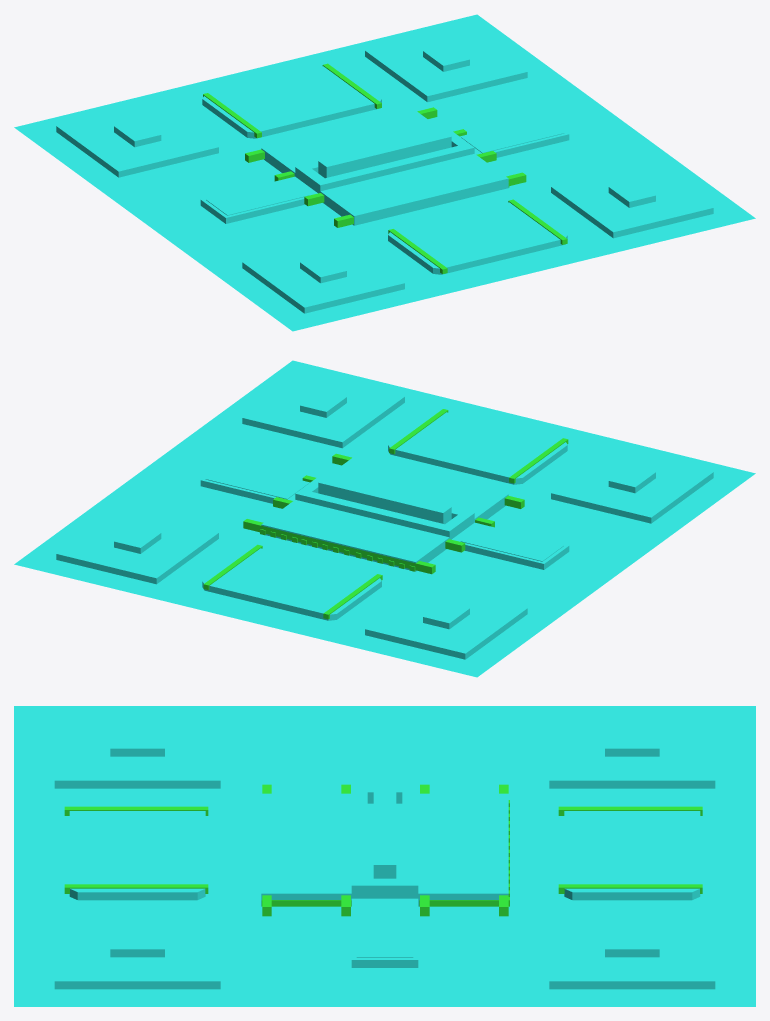
File: Techazo.fbx
3 renders of one model, top to bottom at view 1: azimuth 30°, elevation 25°; view 2: azimuth 150°, elevation 25°; view 3: azimuth 270°, elevation 25°, orthographic. The views are drawn at different scales.
Visible parts, largest first — view 1: techo, ranuras; view 2: techo, ranuras; view 3: techo, ranuras.
Part boxes in pixels (bbox=[...]): techo: bbox=[14, 14, 755, 331]; ranuras: bbox=[203, 63, 567, 274]; techo: bbox=[14, 360, 755, 677]; ranuras: bbox=[203, 409, 568, 619]; techo: bbox=[14, 706, 755, 1006]; ranuras: bbox=[64, 784, 702, 916].
Size of the model in its own units: 28.25 by 1.41 by 29.44.
